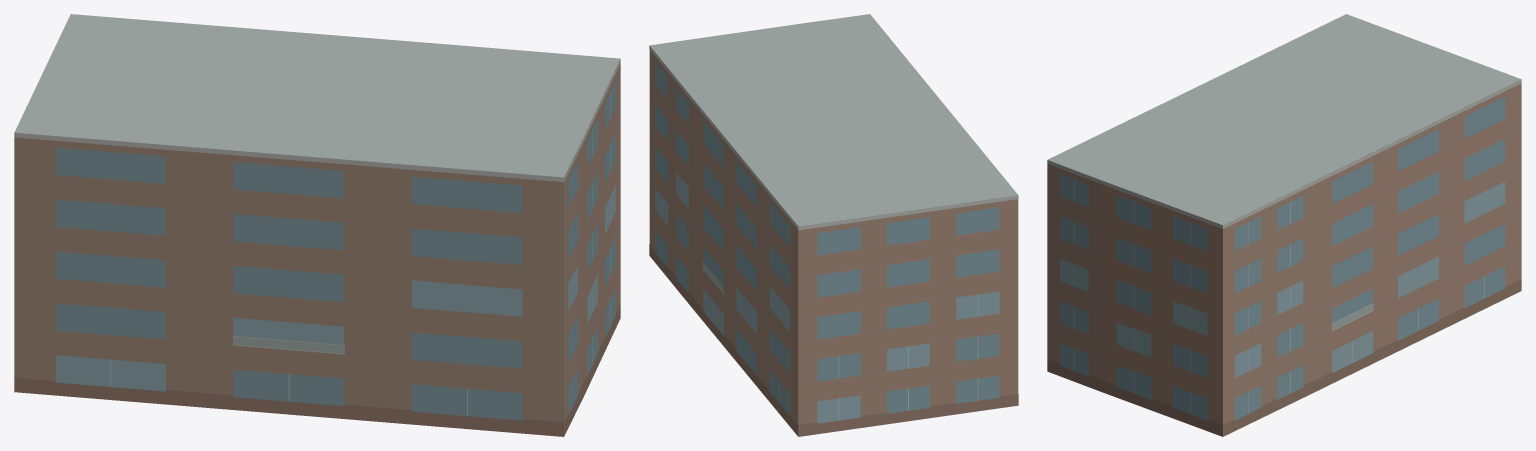
Rendered from survey-upis-32520943.glb.
3 views of the same model, side by side, from view 1: azimuth 30°, elevation 25°; view 2: azimuth 150°, elevation 25°; view 3: azimuth 270°, elevation 25° (orthographic). The views are drawn at different scales.
Visible parts, largest first — view 1: survey-upis-32520943.tmp; view 2: survey-upis-32520943.tmp; view 3: survey-upis-32520943.tmp.
Boxes of the visible parts, left/top/right/bottom form: survey-upis-32520943.tmp: left=14, top=14, right=620, bottom=436; survey-upis-32520943.tmp: left=649, top=14, right=1018, bottom=436; survey-upis-32520943.tmp: left=1047, top=14, right=1521, bottom=436.
Size of the model in its own units: 28.7 by 13.4 by 27.23.
